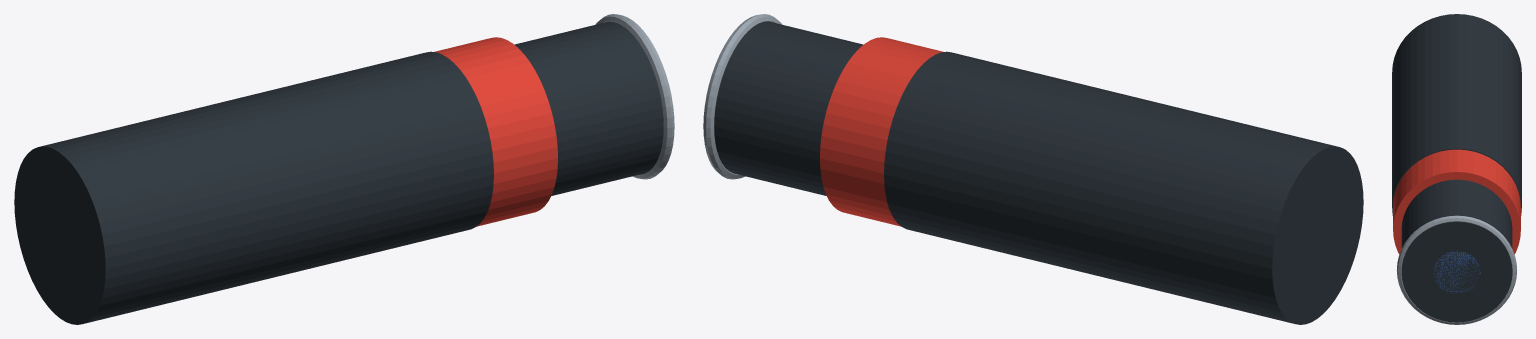
File: laser.glb
3 renders of one model, left to right at view 1: azimuth 30°, elevation 25°; view 2: azimuth 150°, elevation 25°; view 3: azimuth 270°, elevation 25°, orthographic. The views are drawn at different scales.
Parts seen in each view (by area): view 1: laser; view 2: laser; view 3: laser.
Boxes of the visible parts, left/top/right/bottom form: laser: left=14, top=14, right=674, bottom=324; laser: left=703, top=14, right=1363, bottom=324; laser: left=1392, top=14, right=1521, bottom=324.
Bounding box in the file's own units: 40 × 11 × 11.
